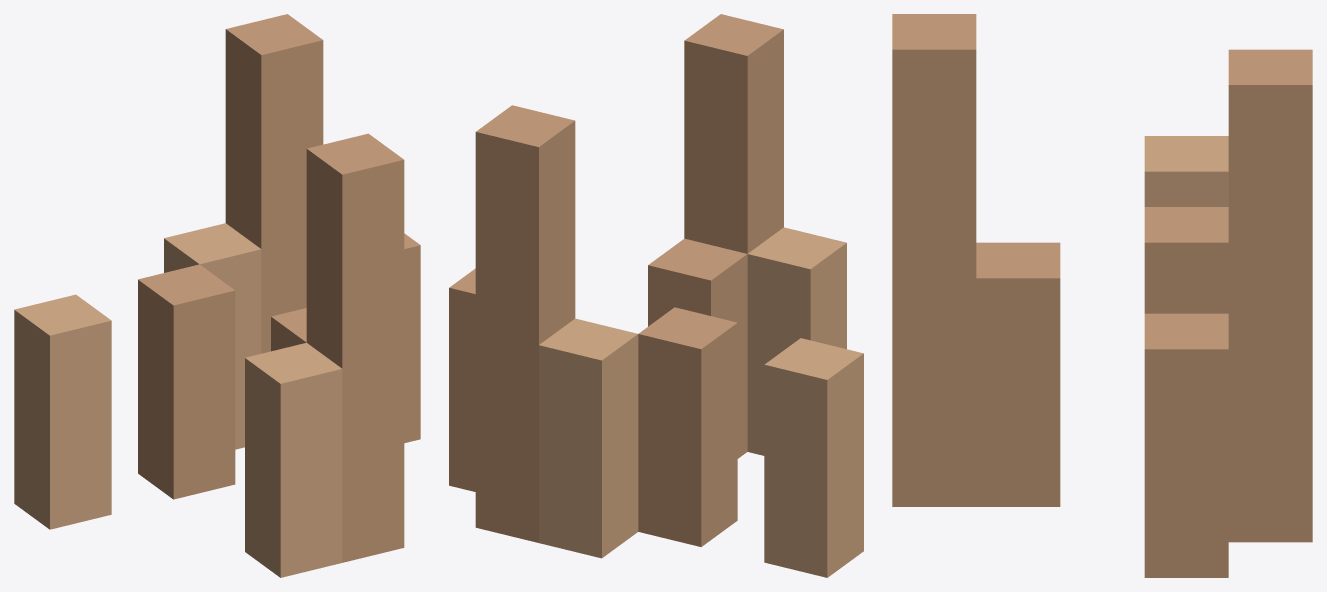
File: zanahoria_silvestre_01.glb
The picture shows the model from 3 angles, left to right: view 1: azimuth 30°, elevation 25°; view 2: azimuth 150°, elevation 25°; view 3: azimuth 270°, elevation 25°; orthographic projection. The views are drawn at different scales.
Visible parts, largest first — view 1: zanahoria_silvestre_01; view 2: zanahoria_silvestre_01; view 3: zanahoria_silvestre_01.
Boxes of the visible parts, left/top/right/bottom form: zanahoria_silvestre_01: left=14, top=14, right=420, bottom=577; zanahoria_silvestre_01: left=449, top=14, right=863, bottom=577; zanahoria_silvestre_01: left=892, top=14, right=1312, bottom=577.
Size of the model in its own units: 0.6 by 0.6 by 0.5.
